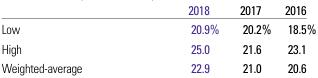table: (0, 1, 315, 75)
table column: (0, 1, 134, 75), (134, 1, 228, 75), (228, 1, 277, 75), (277, 1, 315, 75)
table column header: (0, 1, 315, 18)
table row: (0, 18, 315, 38), (0, 38, 315, 57), (0, 57, 315, 75), (0, 1, 315, 18)
